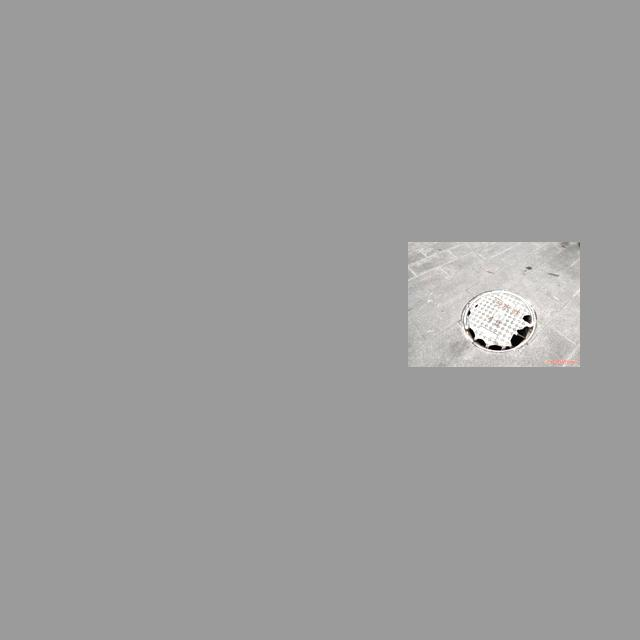broke: (457, 285, 540, 355)
